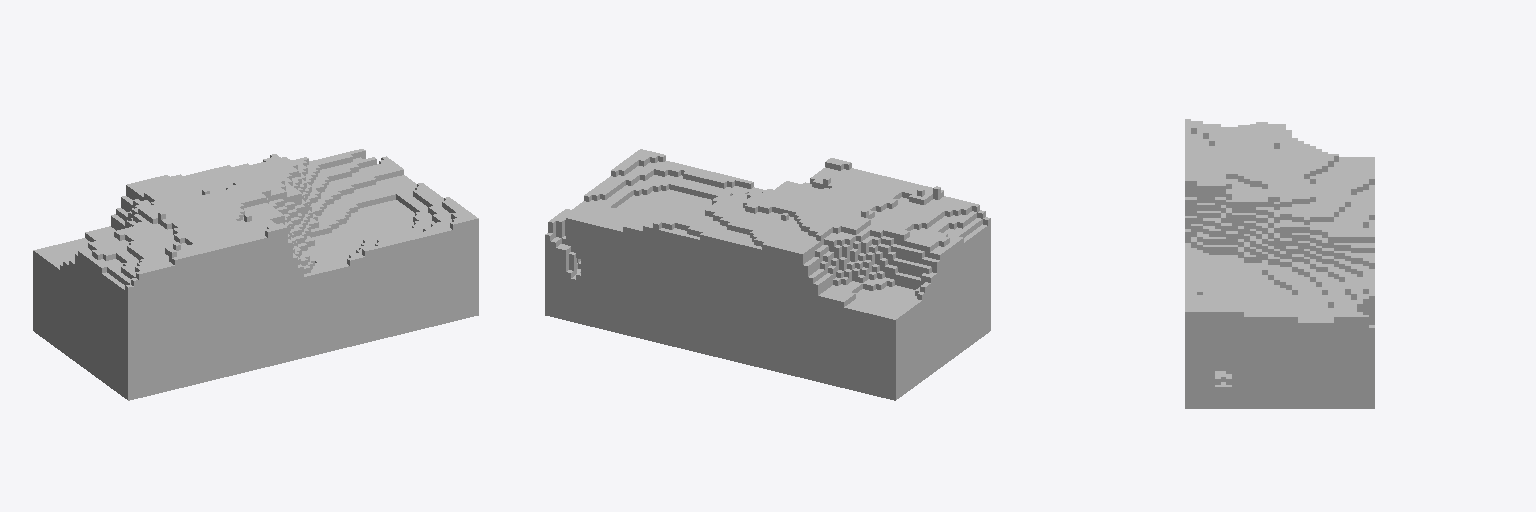
Rendered from long-desert.obj.
3 renders of one model, left to right at view 1: azimuth 30°, elevation 25°; view 2: azimuth 150°, elevation 25°; view 3: azimuth 270°, elevation 25°, orthographic.
Visible parts, largest first — view 1: Honors_World__76_125_149_to_143_175_180; view 2: Honors_World__76_125_149_to_143_175_180; view 3: Honors_World__76_125_149_to_143_175_180.
Part boxes in pixels (left/top/right/bottom): Honors_World__76_125_149_to_143_175_180: left=33, top=149, right=478, bottom=400; Honors_World__76_125_149_to_143_175_180: left=545, top=149, right=990, bottom=400; Honors_World__76_125_149_to_143_175_180: left=1185, top=119, right=1374, bottom=408.
Bounding box in the file's own units: 68 × 25 × 32.